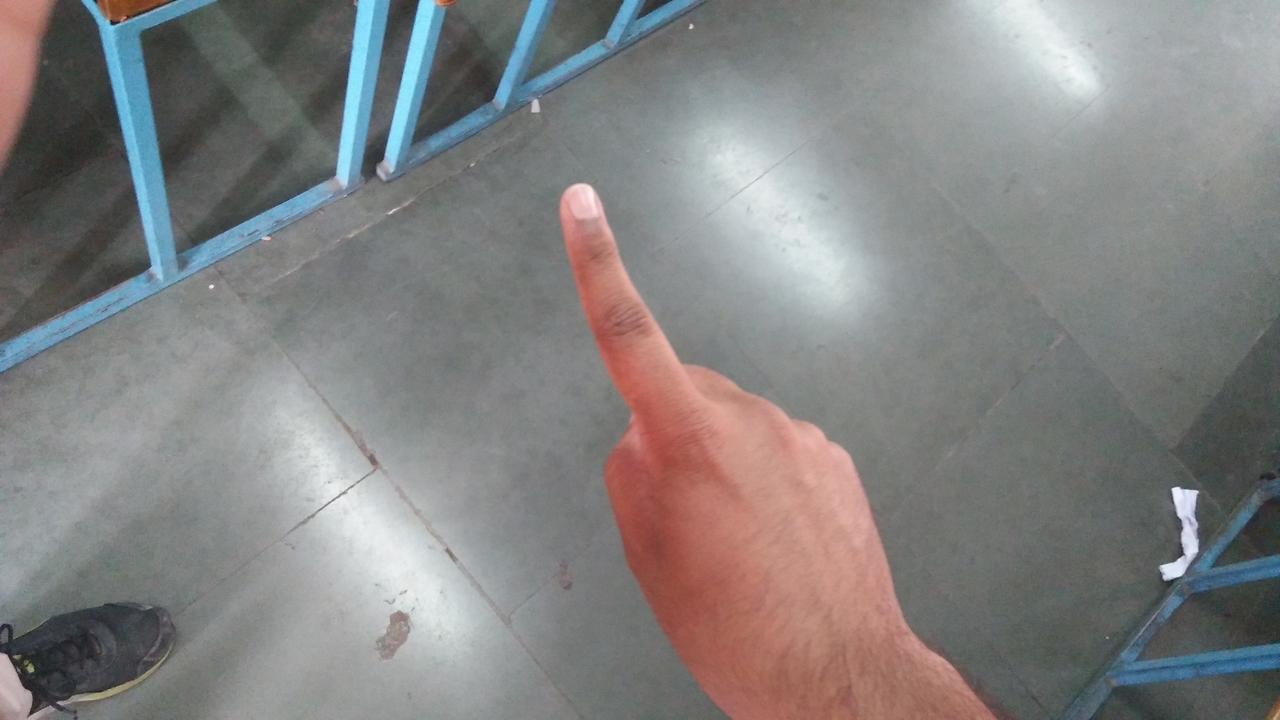fingertip: (550, 170, 612, 234)
